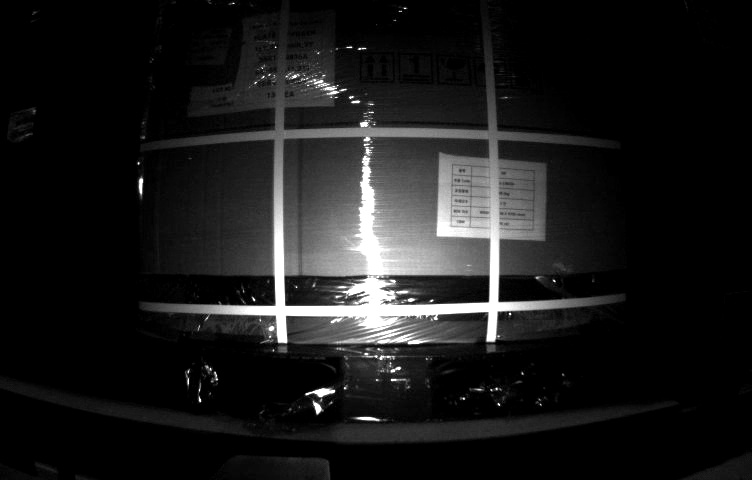True Barcode: (188, 28, 228, 65)
